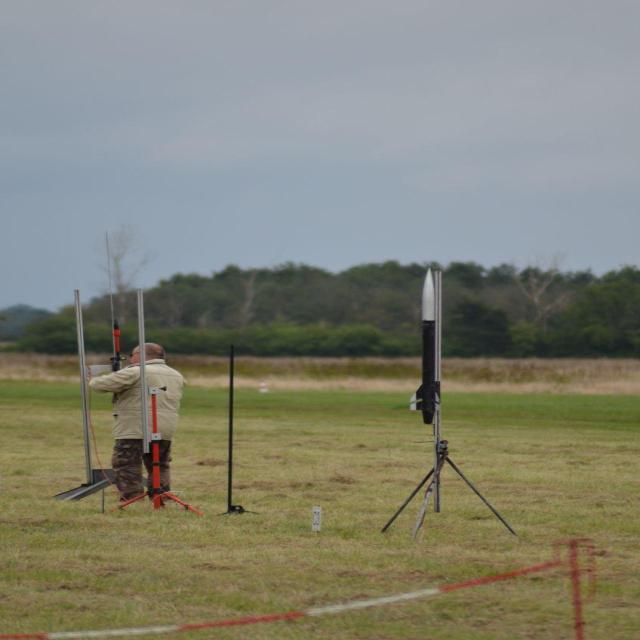Rocket: (409, 266, 441, 424), (110, 319, 126, 361)
